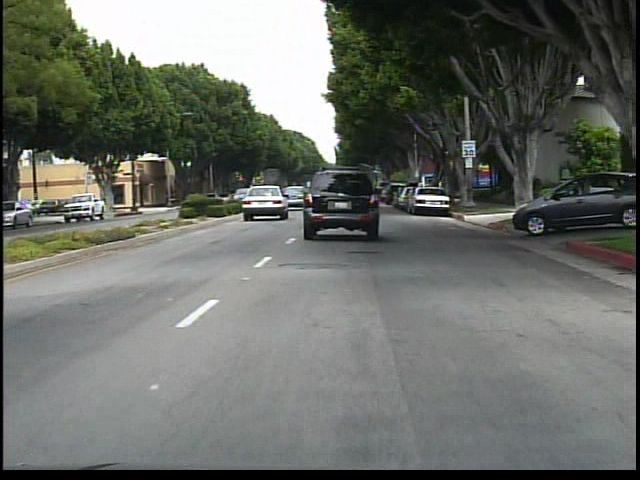car: (508, 174, 634, 232), (302, 166, 380, 241), (239, 184, 290, 223), (408, 185, 452, 218), (63, 195, 106, 223), (3, 195, 33, 229)
